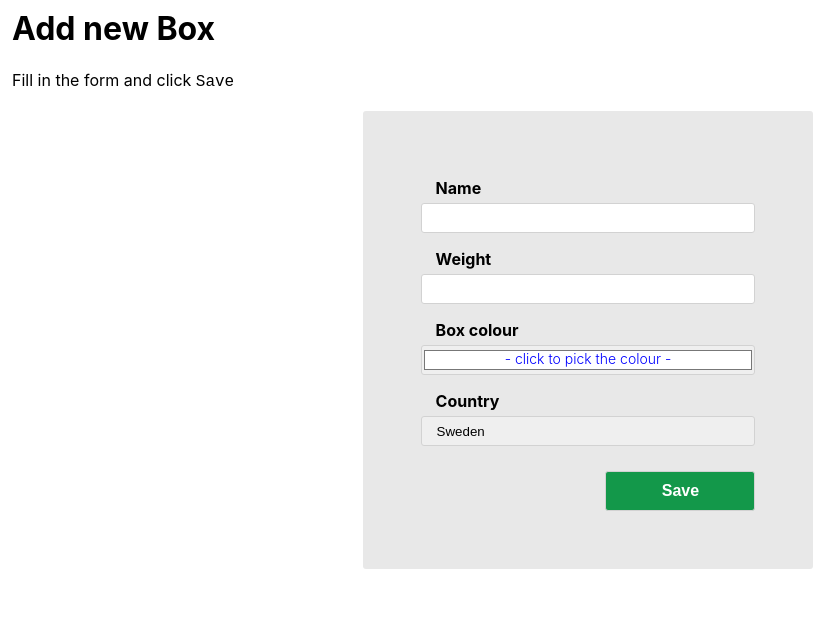
Scenario: AddBox form validation › should assert error when input fields are empty
Clear the field named "nameReceiver": [588, 218] box [421, 204, 755, 234]
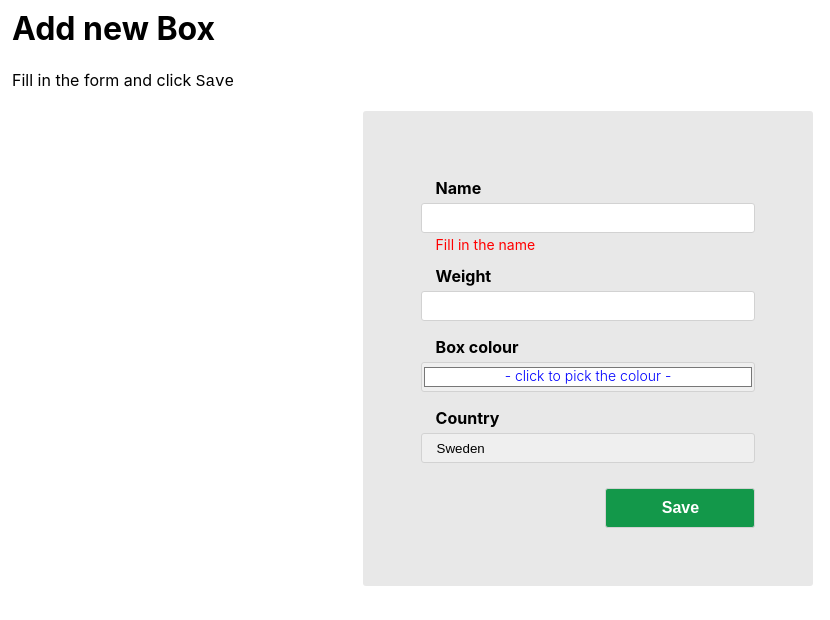
Now the text "Fill in the name" is shown, box [436, 236, 535, 254]
Clear the number field named "weight": [588, 306] box [421, 292, 755, 322]
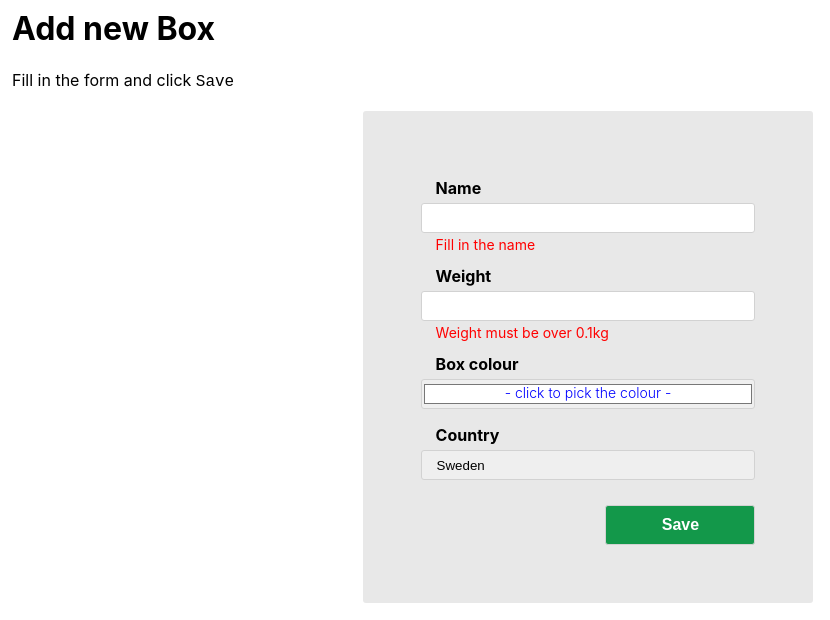
Now the text "Weight must be over 0.1kg" is shown, box [436, 324, 609, 342]
